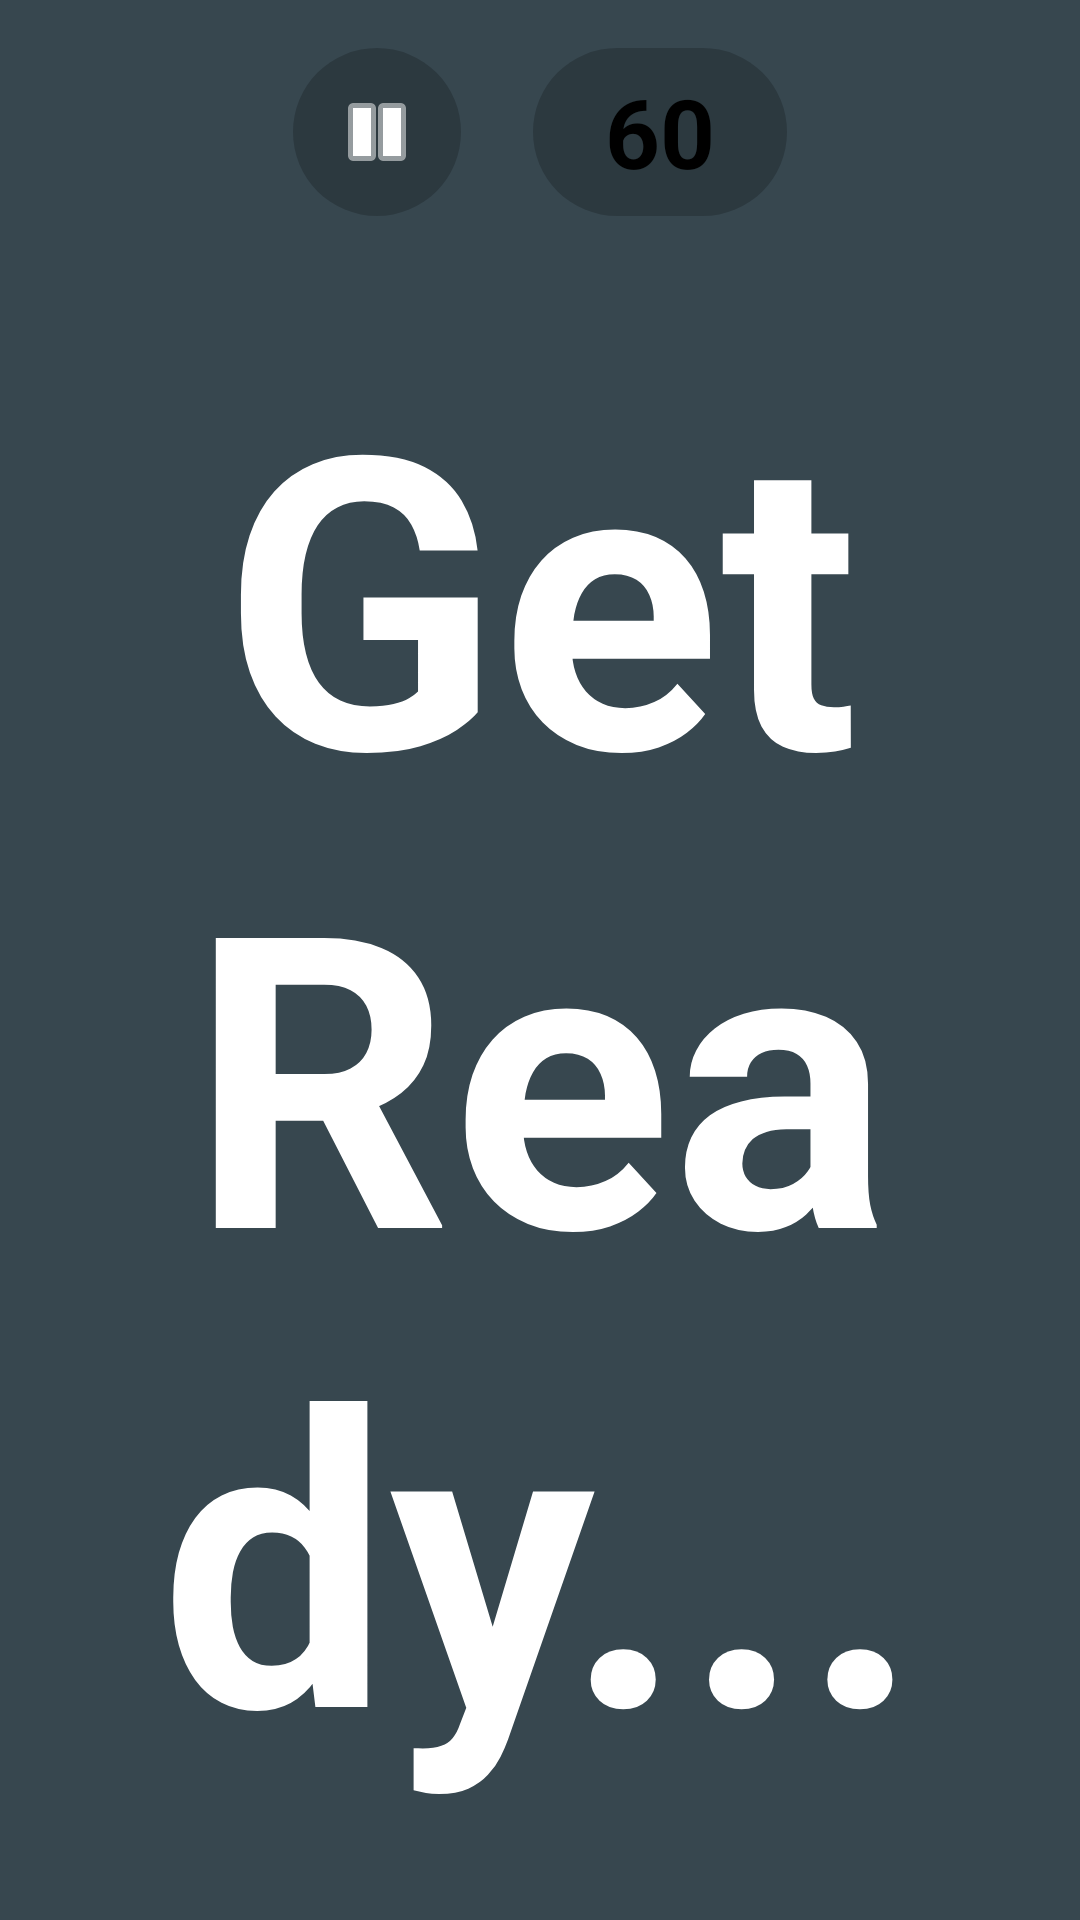

Icons on this 1080×1920 Android screen, each with the point to tap as [x,y]:
pause: [377,132]
